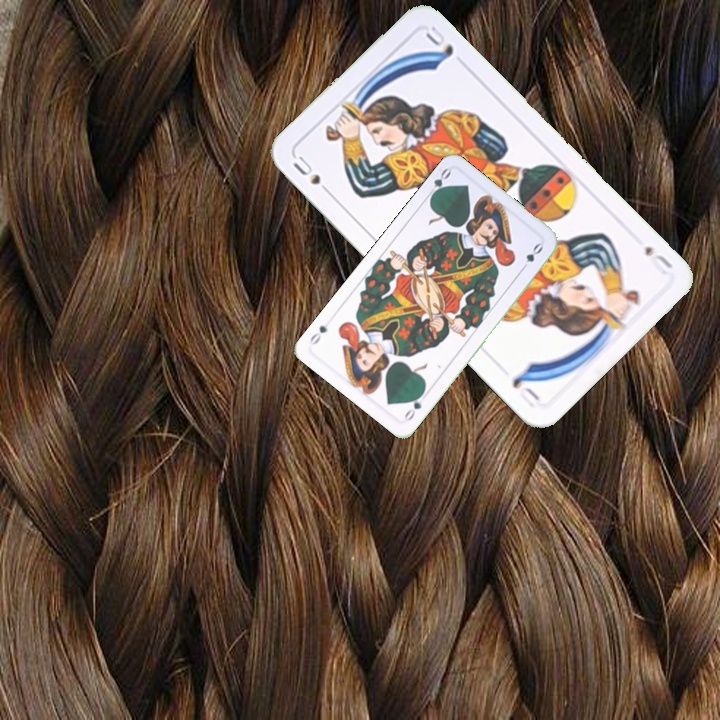GO: (422, 164, 453, 202), (400, 387, 427, 424)
SU: (289, 151, 336, 199), (640, 241, 676, 278)
